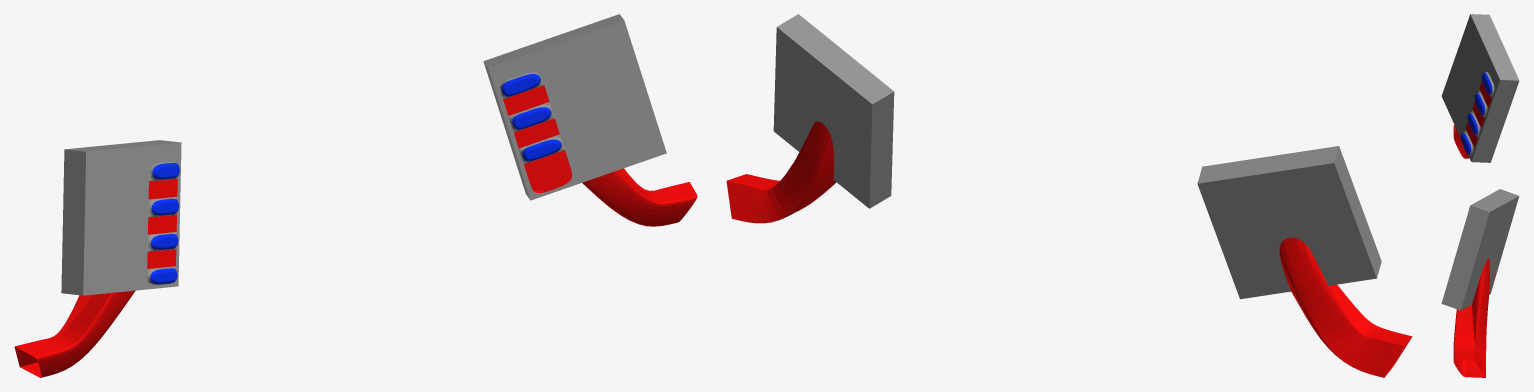
The model's file is HUD_Paddles.FBX.
3 renders of one model, left to right at view 1: azimuth 30°, elevation 25°; view 2: azimuth 150°, elevation 25°; view 3: azimuth 270°, elevation 25°, orthographic. The views are drawn at different scales.
Visible parts, largest first — view 1: Box003; view 2: Box003; view 3: Box003.
Boxes of the visible parts, box(x1,y1,x2,y2) form: Box003: box(14, 14, 697, 377); Box003: box(726, 14, 1412, 377); Box003: box(1441, 14, 1519, 377).
Bounding box in the file's own units: 135 × 40.33 × 18.5.
